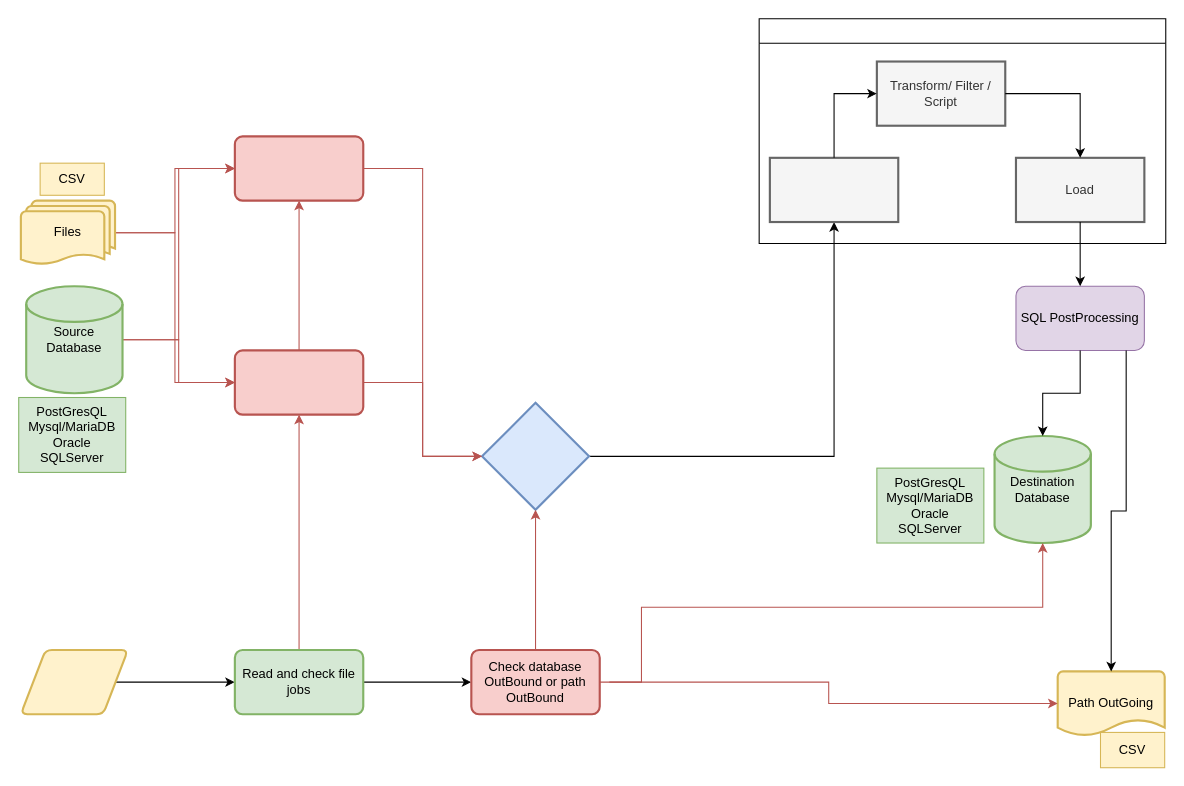
This 1184x786 diagram has some shape labels left out. The shapes that lost their labels are listed below. From the top down, each one's box as (x1, y1, x2, y2) in pixels, then its label:
(758, 18, 1166, 243): Vertical Container
(233, 135, 364, 201): Check file integrity (option)
(768, 156, 899, 223): Extract data
(233, 349, 364, 415): Check path files data or database Inbound
(480, 401, 590, 510): If OK
(19, 648, 128, 715): Yaml File Jobs
